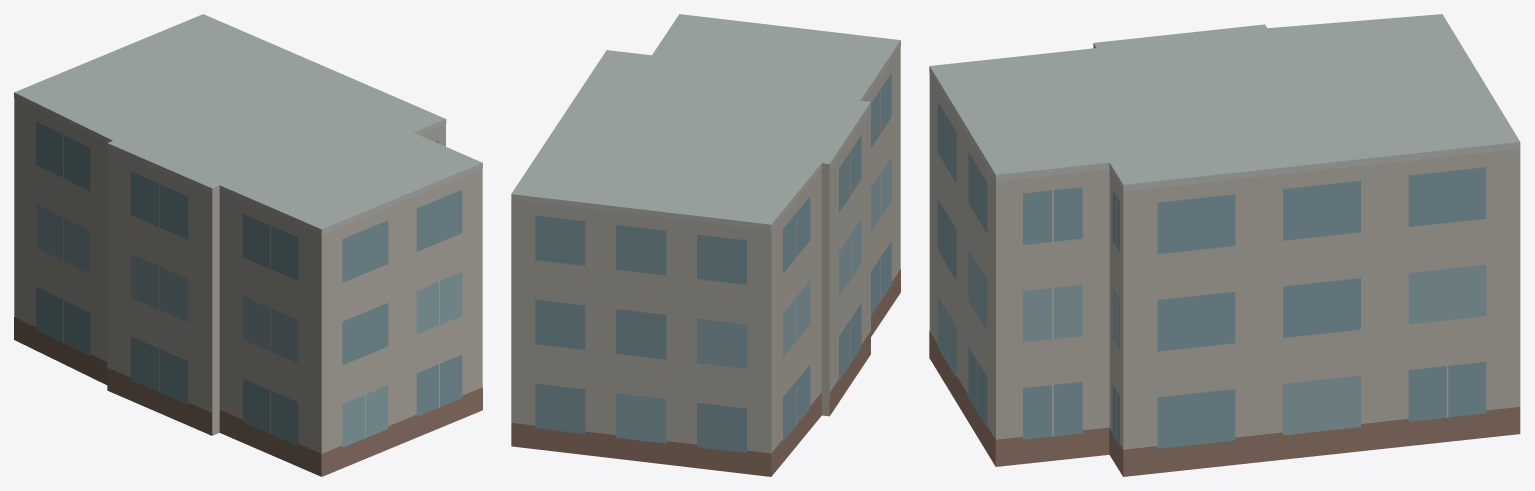
Rendered from survey-upis-32701326.glb.
3 renders of one model, left to right at view 1: azimuth 30°, elevation 25°; view 2: azimuth 150°, elevation 25°; view 3: azimuth 270°, elevation 25°, orthographic. The views are drawn at different scales.
Visible parts, largest first — view 1: survey-upis-32701326.tmp; view 2: survey-upis-32701326.tmp; view 3: survey-upis-32701326.tmp.
Part boxes in pixels (x1,y1,x2,y2): survey-upis-32701326.tmp: [14, 14, 482, 476]; survey-upis-32701326.tmp: [511, 14, 900, 476]; survey-upis-32701326.tmp: [929, 14, 1520, 476].
Size of the model in its own units: 13.37 by 10.65 by 19.54.
